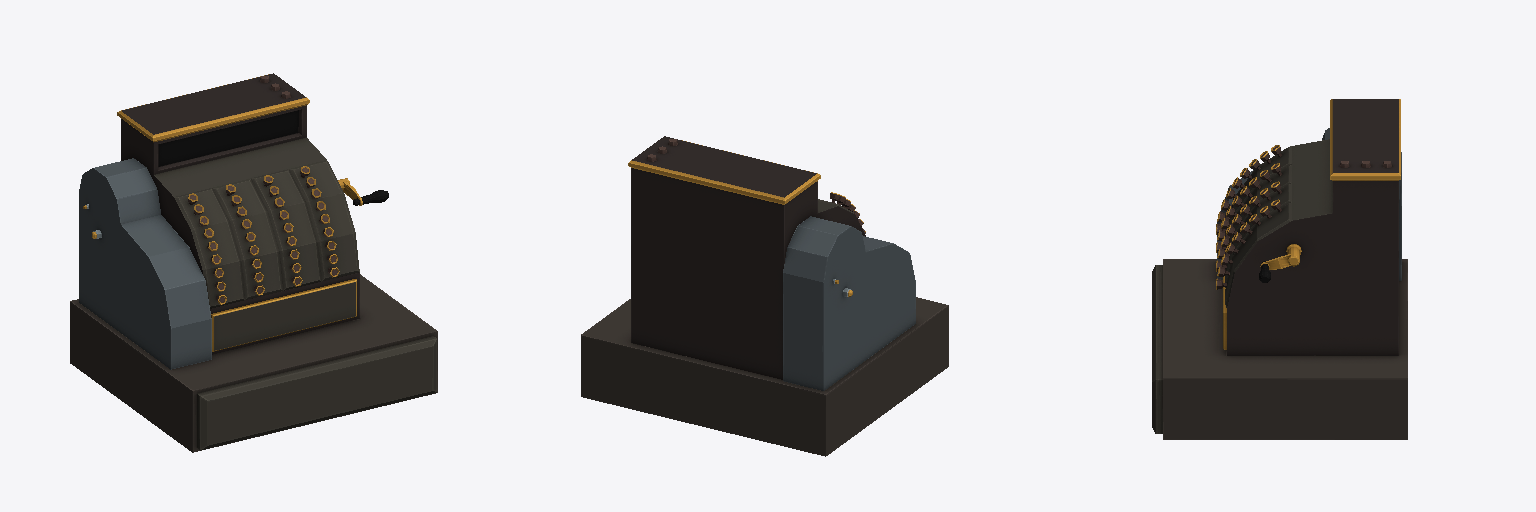
The picture shows the model from 3 angles: view 1: azimuth 30°, elevation 25°; view 2: azimuth 150°, elevation 25°; view 3: azimuth 270°, elevation 25°; orthographic projection.
Visible parts, largest first — view 1: CashRegister_mesh; view 2: CashRegister_mesh; view 3: CashRegister_mesh.
Boxes of the visible parts, box(x1,y1,x2,y2) form: CashRegister_mesh: box(70, 73, 437, 452); CashRegister_mesh: box(581, 136, 948, 456); CashRegister_mesh: box(1152, 99, 1407, 439).
Bounding box in the file's own units: 12.88 × 12.32 × 11.53.
Materials: 1 (1 with a texture image).